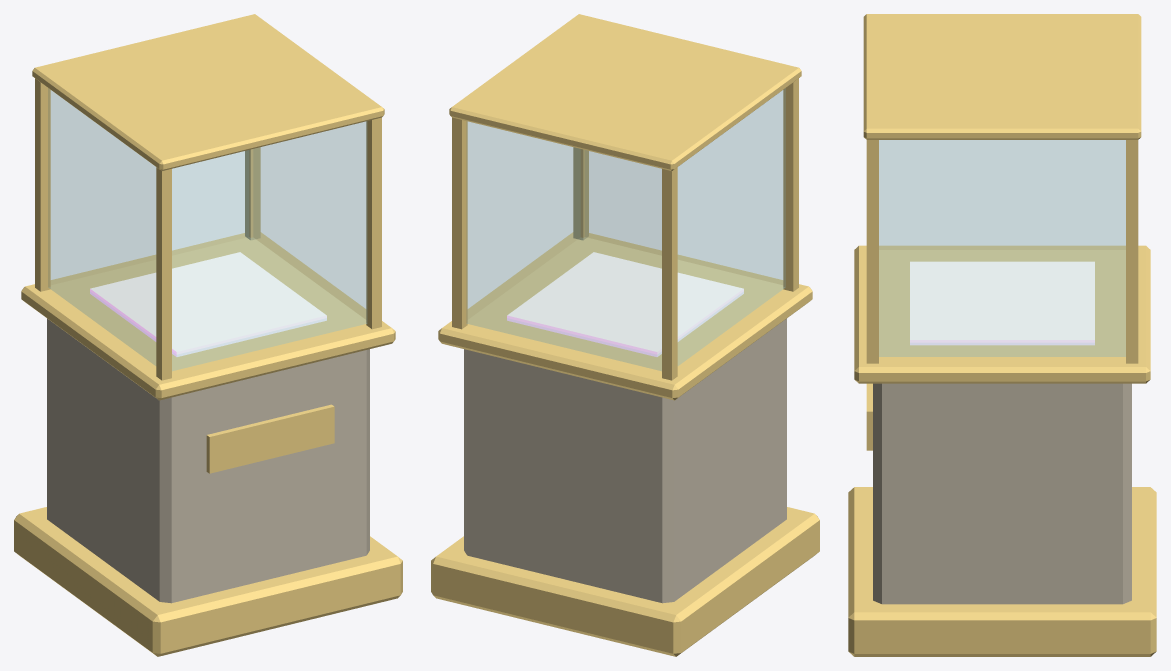
File: lt_trophy_bb.glb
The picture shows the model from 3 angles, left to right: view 1: azimuth 30°, elevation 25°; view 2: azimuth 150°, elevation 25°; view 3: azimuth 270°, elevation 25°; orthographic projection. The views are drawn at different scales.
Parts seen in each view (by area): view 1: lt_trophy_bb; view 2: lt_trophy_bb; view 3: lt_trophy_bb.
Part boxes in pixels (x1=…): lt_trophy_bb: x1=14, y1=14, x2=402, y2=656; lt_trophy_bb: x1=431, y1=14, x2=819, y2=656; lt_trophy_bb: x1=848, y1=14, x2=1156, y2=656.
Size of the model in its own units: 1 by 1.87 by 1.
